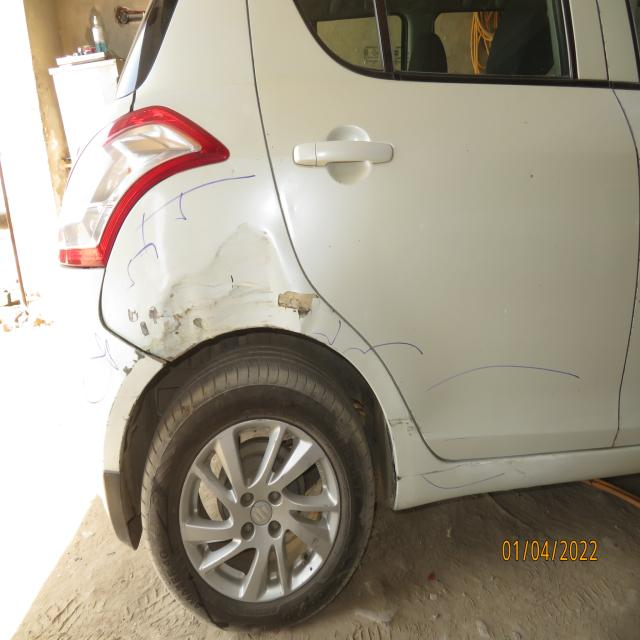damage: (123, 218, 283, 357), (104, 340, 158, 467), (267, 280, 326, 319), (378, 409, 423, 443)
